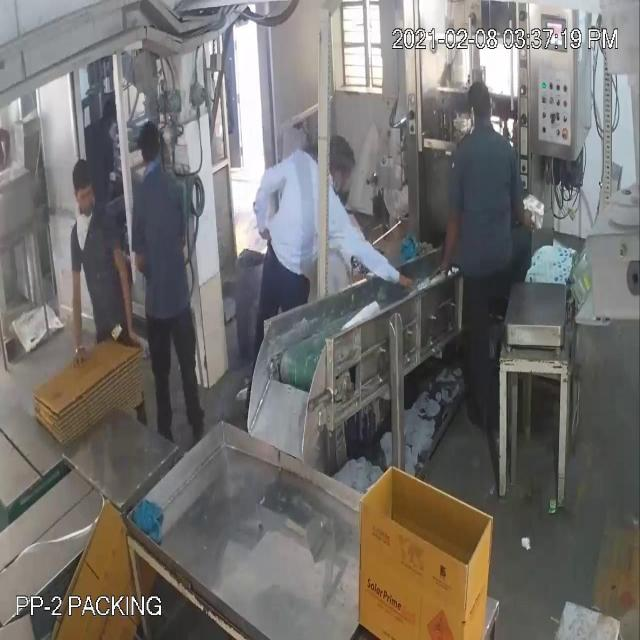No_Gloves: (25, 122, 124, 310)
